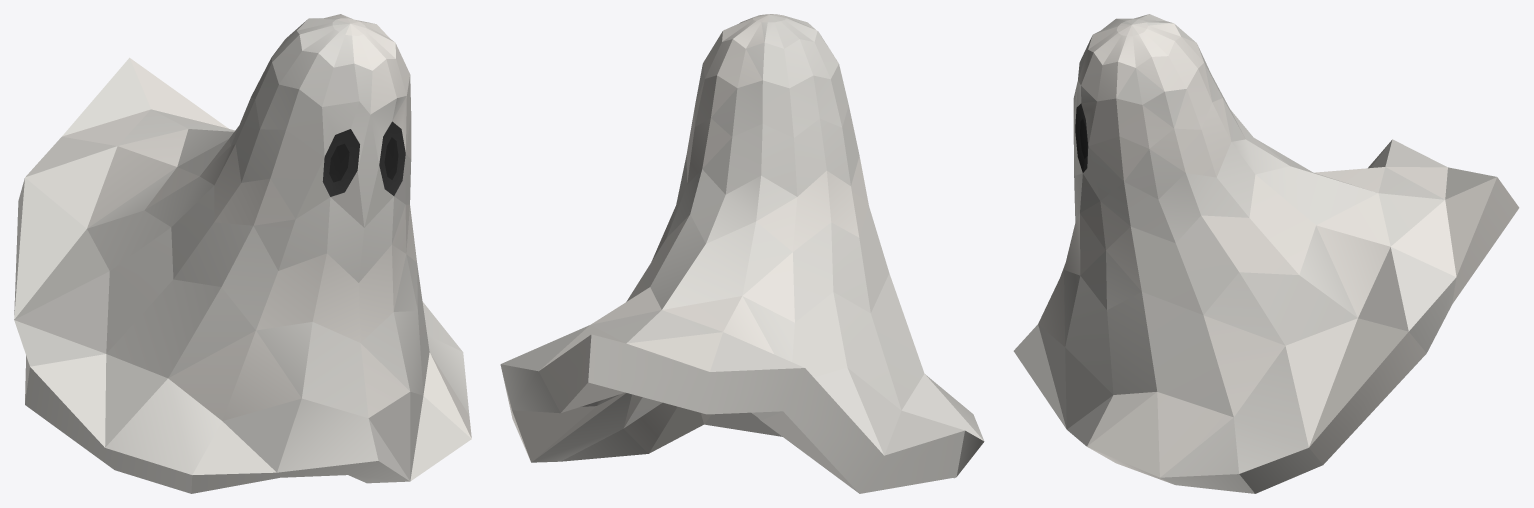
The model's file is WF_LP_HT_Characters_Ghost.001.fbx.
3 renders of one model, left to right at view 1: azimuth 30°, elevation 25°; view 2: azimuth 150°, elevation 25°; view 3: azimuth 270°, elevation 25°, orthographic. The views are drawn at different scales.
Visible parts, largest first — view 1: WF_LP_HT_Characters_Ghost.001; view 2: WF_LP_HT_Characters_Ghost.001; view 3: WF_LP_HT_Characters_Ghost.001.
Boxes of the visible parts, x1=… form: WF_LP_HT_Characters_Ghost.001: x1=14, y1=14, x2=471, y2=493; WF_LP_HT_Characters_Ghost.001: x1=500, y1=14, x2=984, y2=493; WF_LP_HT_Characters_Ghost.001: x1=1013, y1=14, x2=1519, y2=493.
Size of the model in its own units: 1.99 by 2.02 by 2.23.
